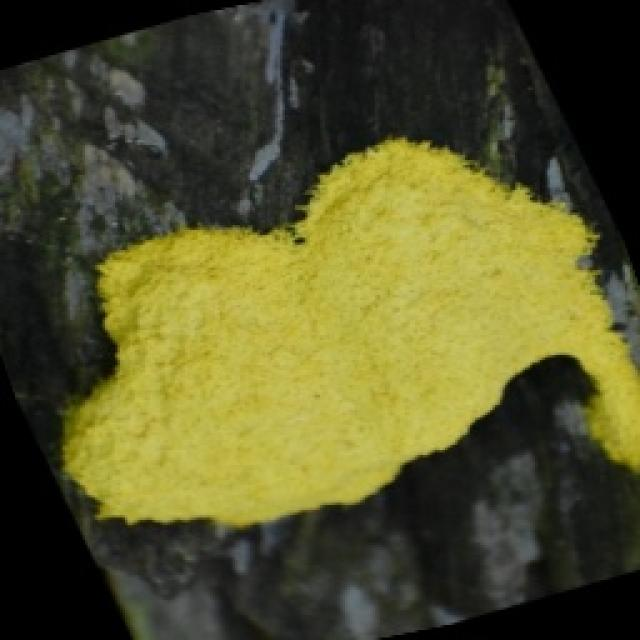Dog_vomit_slime_mold: (52, 150, 640, 588), (636, 158, 638, 162)
